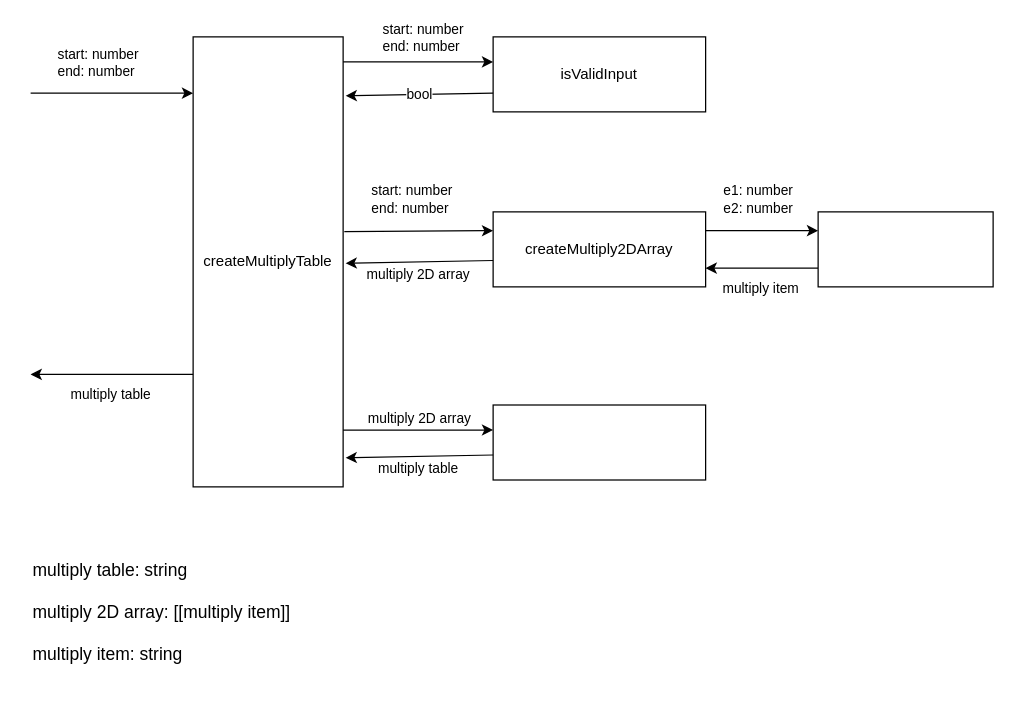
Some shapes in this 1015 by 721 pixel diagram are drawn without their labels. Each missing label, with the centre of its shape:
"createOneMultiplyItem" goes at point 905,249.
"generateMultipleTable" goes at point 599,442.
